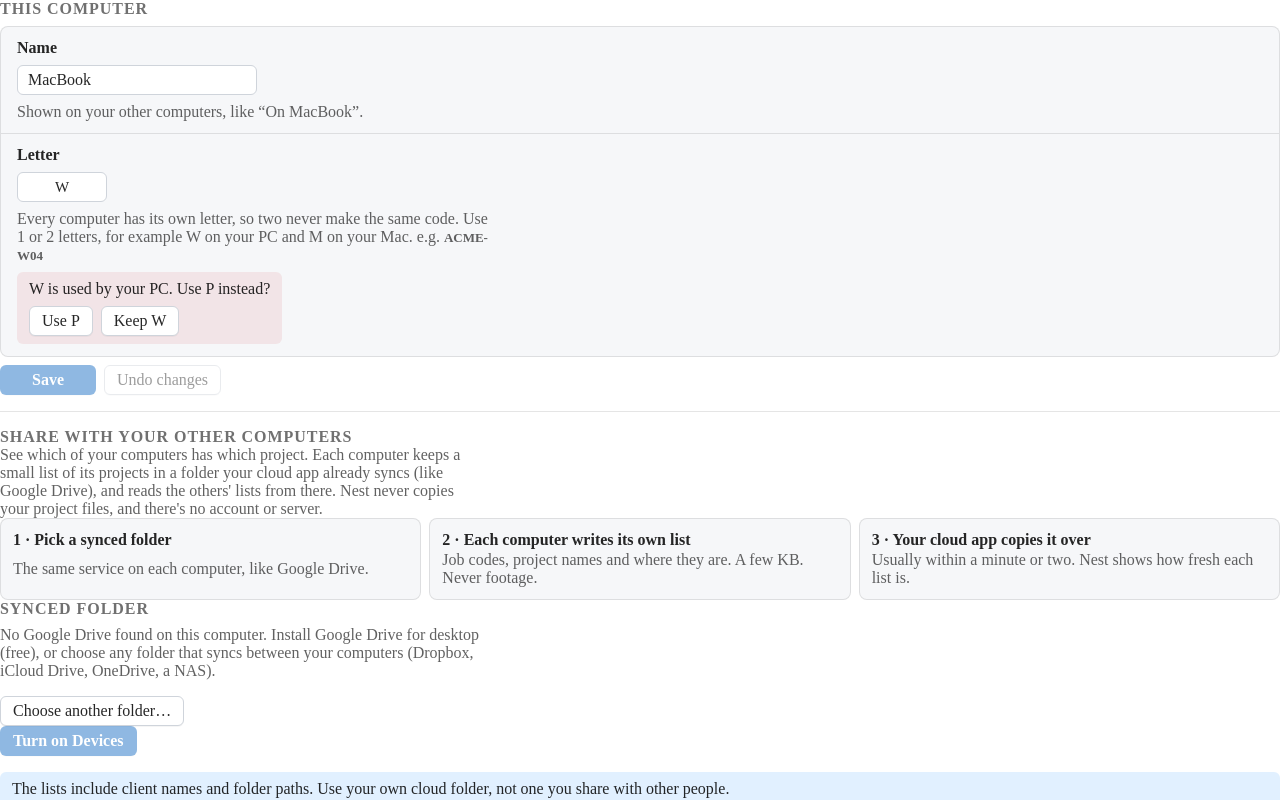
Test: Settings → Computers: this computer › the letter warning is one stable status element whose words change as you type
This screenshot has width=1280, height=800.
Step 1. Replace the text in the field labelled "Letter" with "Q" → (62, 187), box [17,172,107,202]
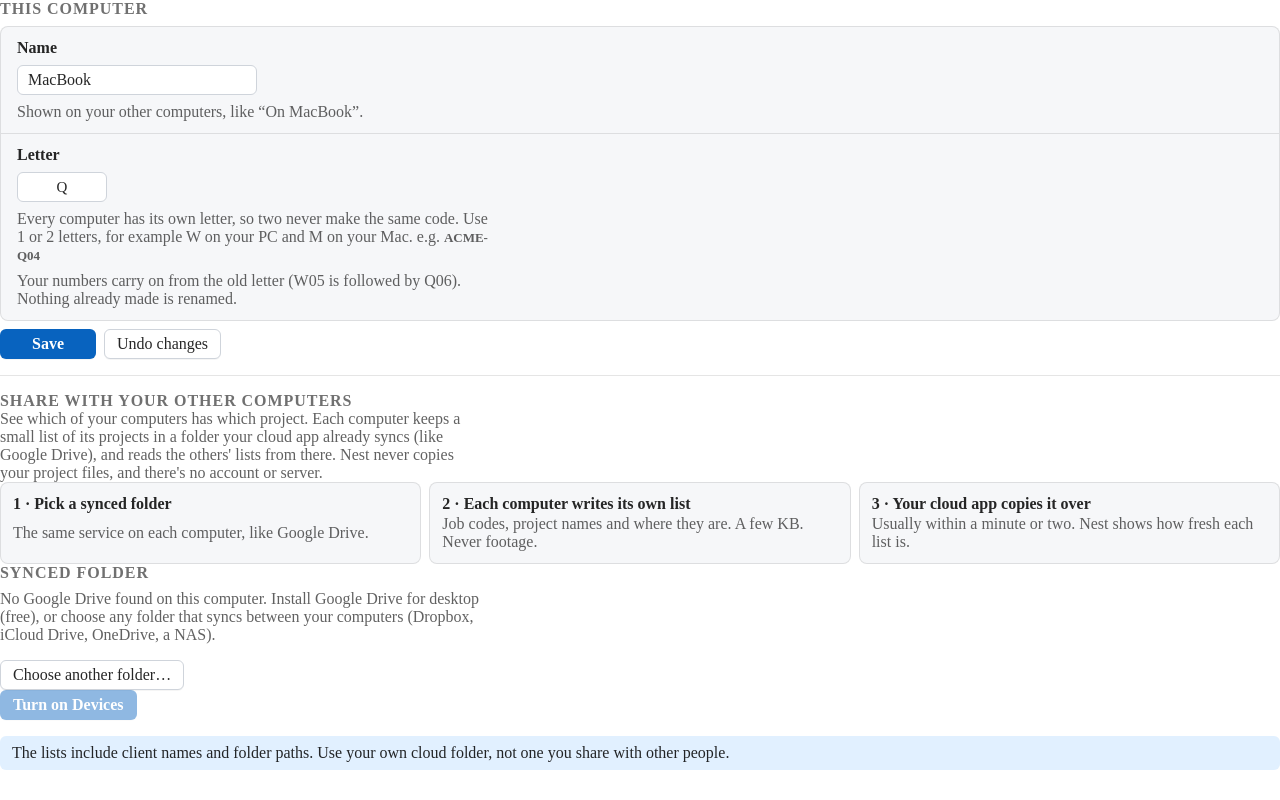
Step 2. Replace the text in the field labelled "Letter" with "W" → (62, 187), box [17,172,107,202]
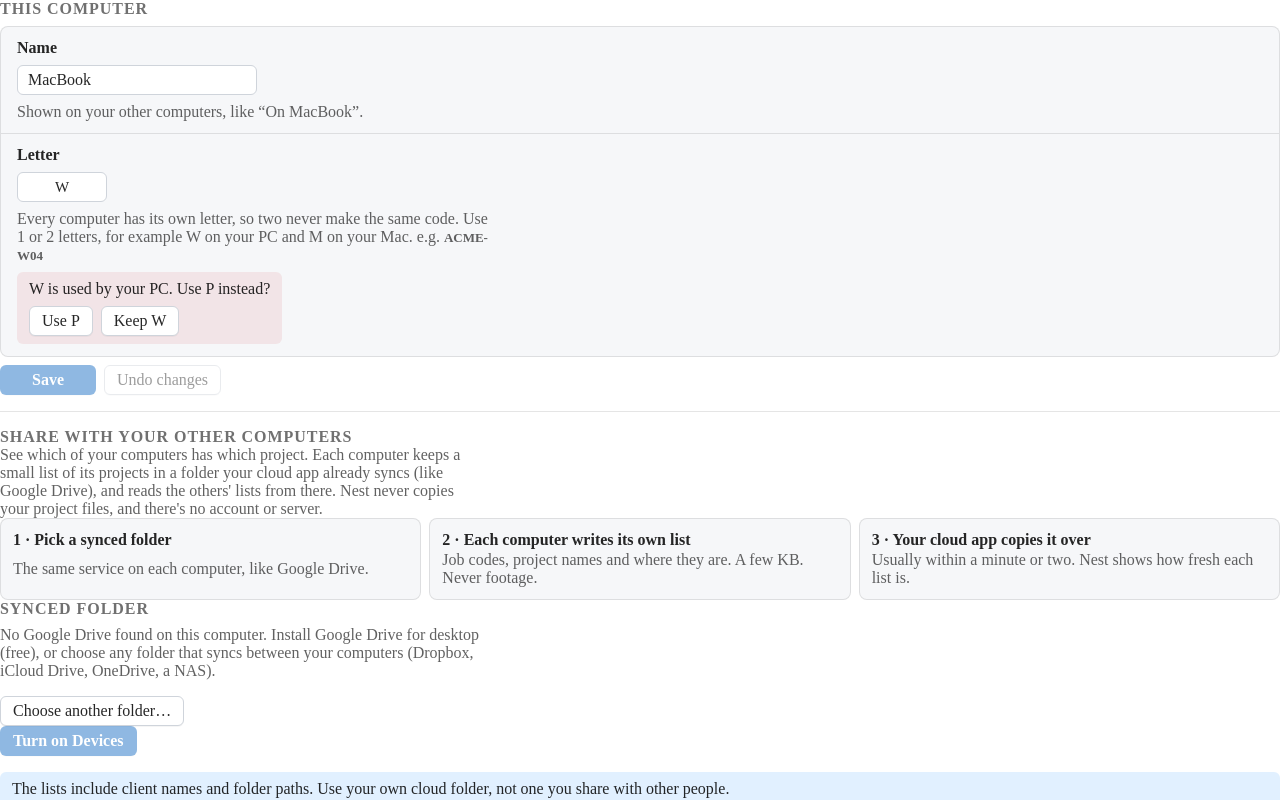
Check: the text "W is used by your PC. Use P instead?" is shown, box [29,280,270,298]
